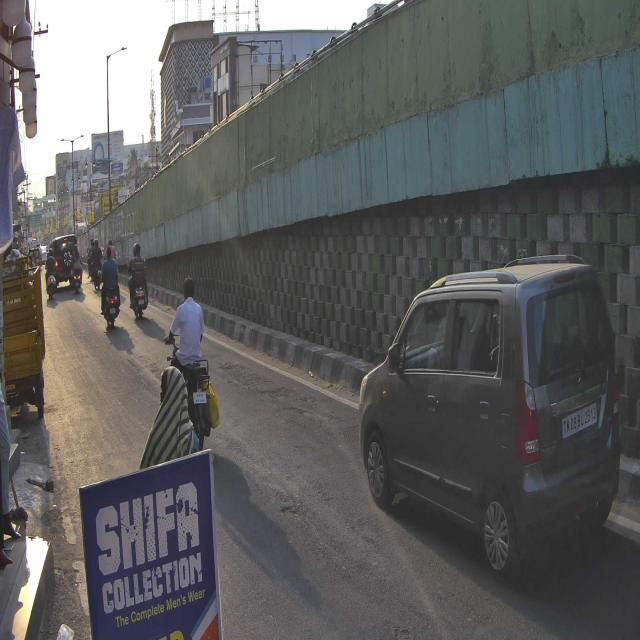single_rider: (172, 272, 219, 450)
